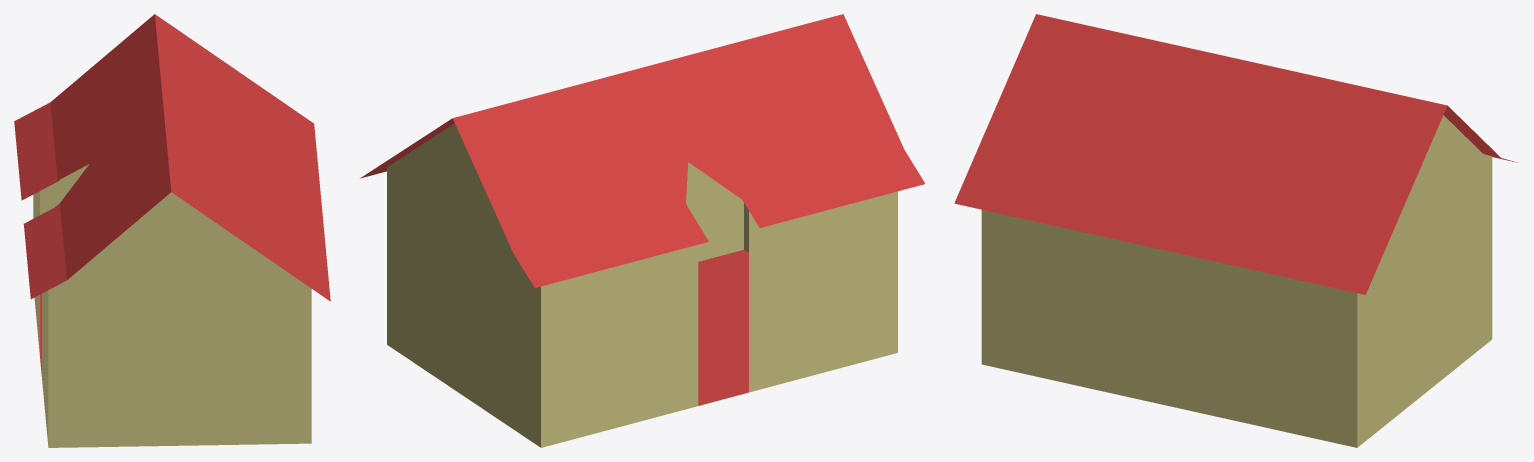
The picture shows the model from 3 angles, left to right: view 1: azimuth 30°, elevation 25°; view 2: azimuth 150°, elevation 25°; view 3: azimuth 270°, elevation 25°; orthographic projection. The views are drawn at different scales.
Bounding box in the file's own units: 25.16 × 27.94 × 15.71.
